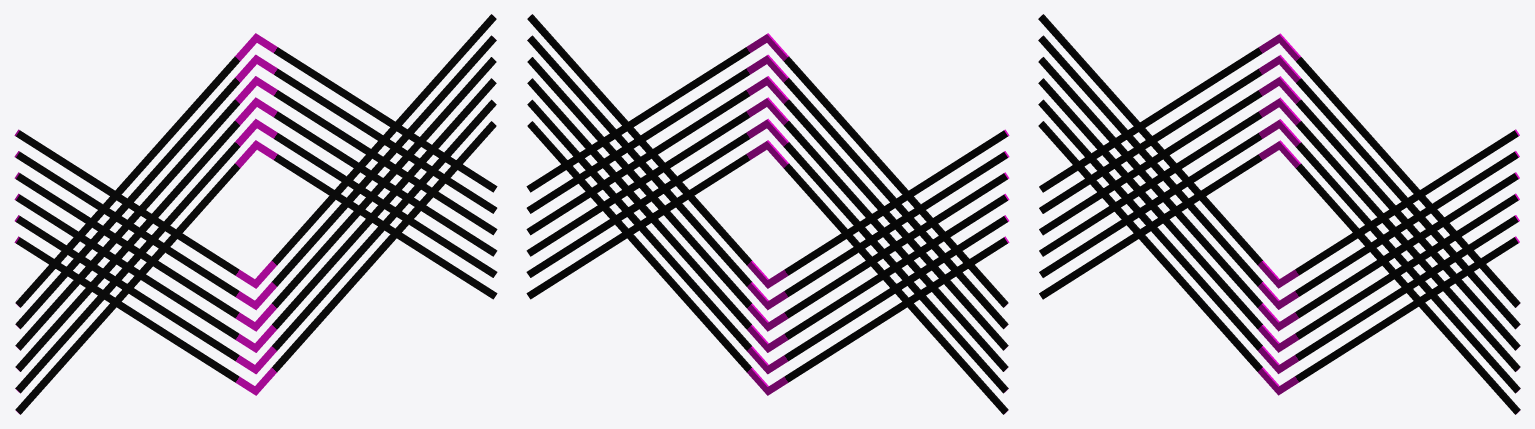
The model's file is Shashka.fbx.
3 views of the same model, side by side, from view 1: azimuth 30°, elevation 25°; view 2: azimuth 150°, elevation 25°; view 3: azimuth 330°, elevation 25° (orthographic).
Parts seen in each view (by area): view 1: Box011; view 2: Box011; view 3: Box011.
Boxes of the visible parts, x1,y1,x2,y2 form: Box011: [14, 14, 497, 414]; Box011: [526, 14, 1009, 414]; Box011: [1038, 14, 1520, 414].
Size of the model in its own units: 18.41 by 13.21 by 0.0884.
